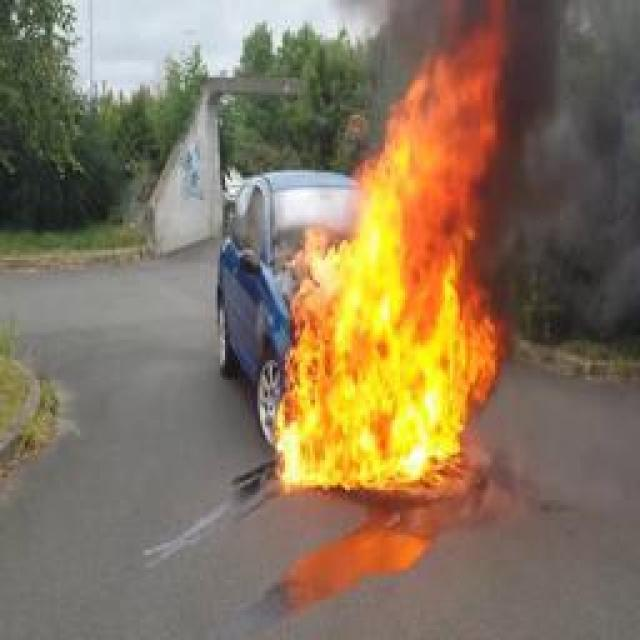Fire: (270, 0, 505, 488)
